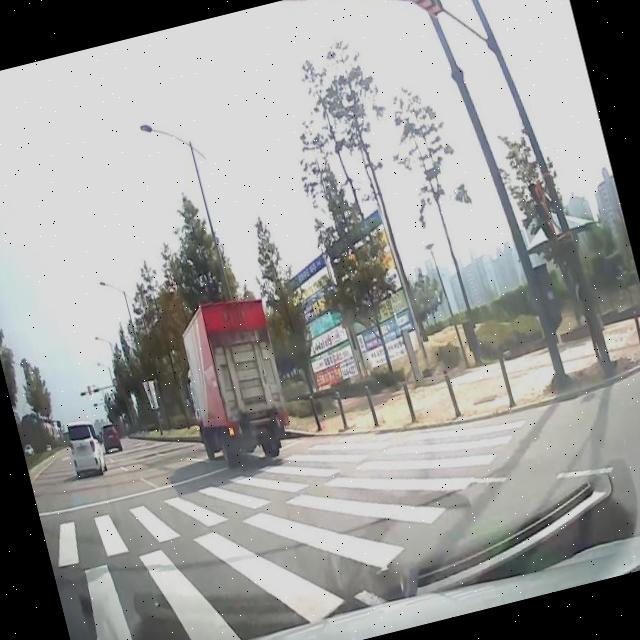crosswalk: (42, 420, 529, 640)
